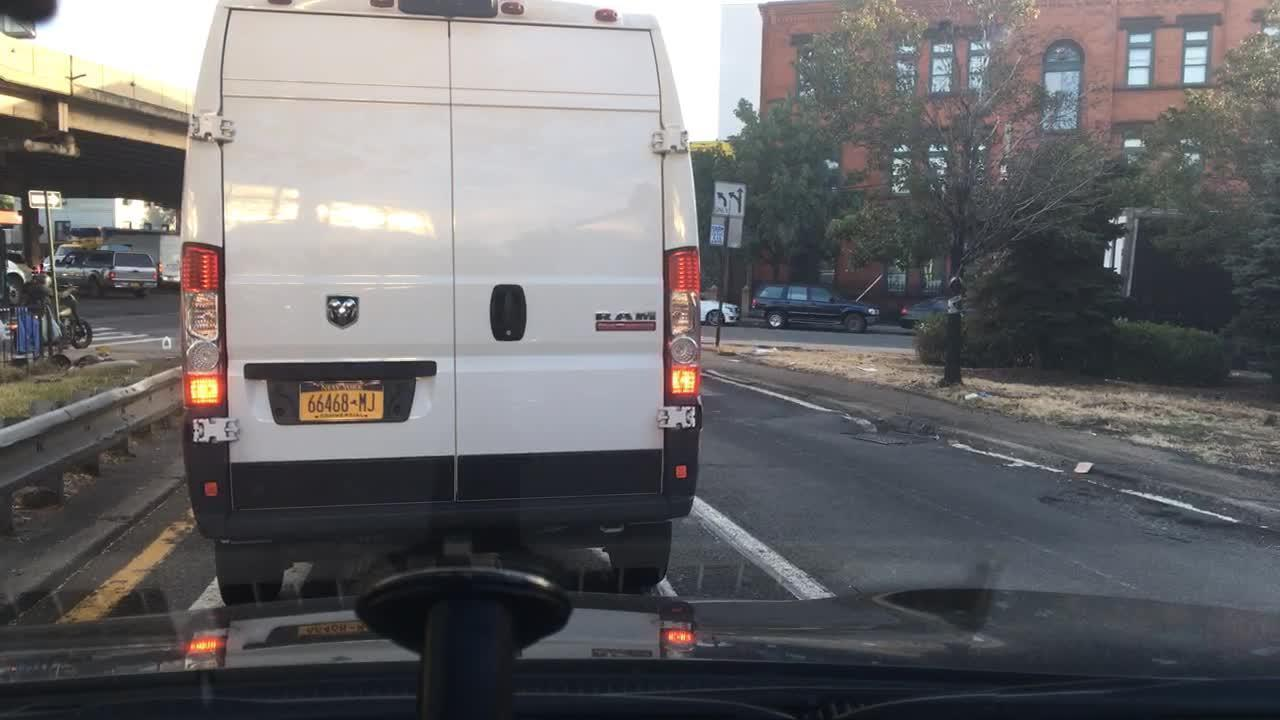ram: (326, 291, 360, 331)
